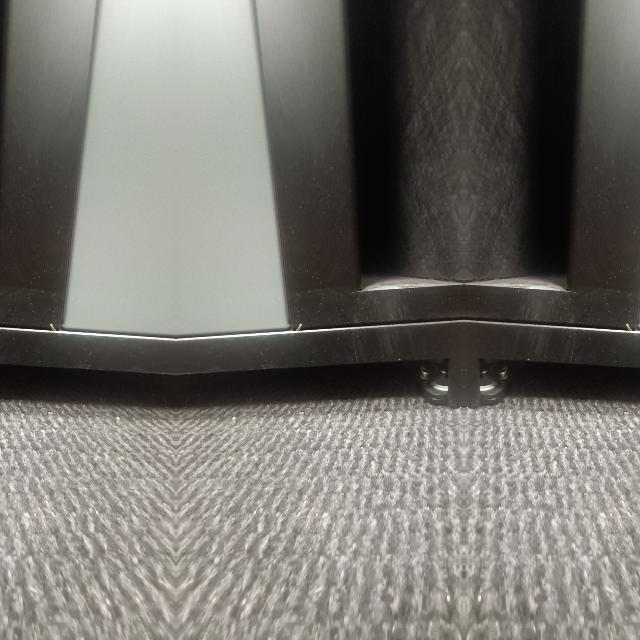obstacle: (174, 128, 463, 404), (463, 128, 640, 403), (0, 128, 175, 403)
